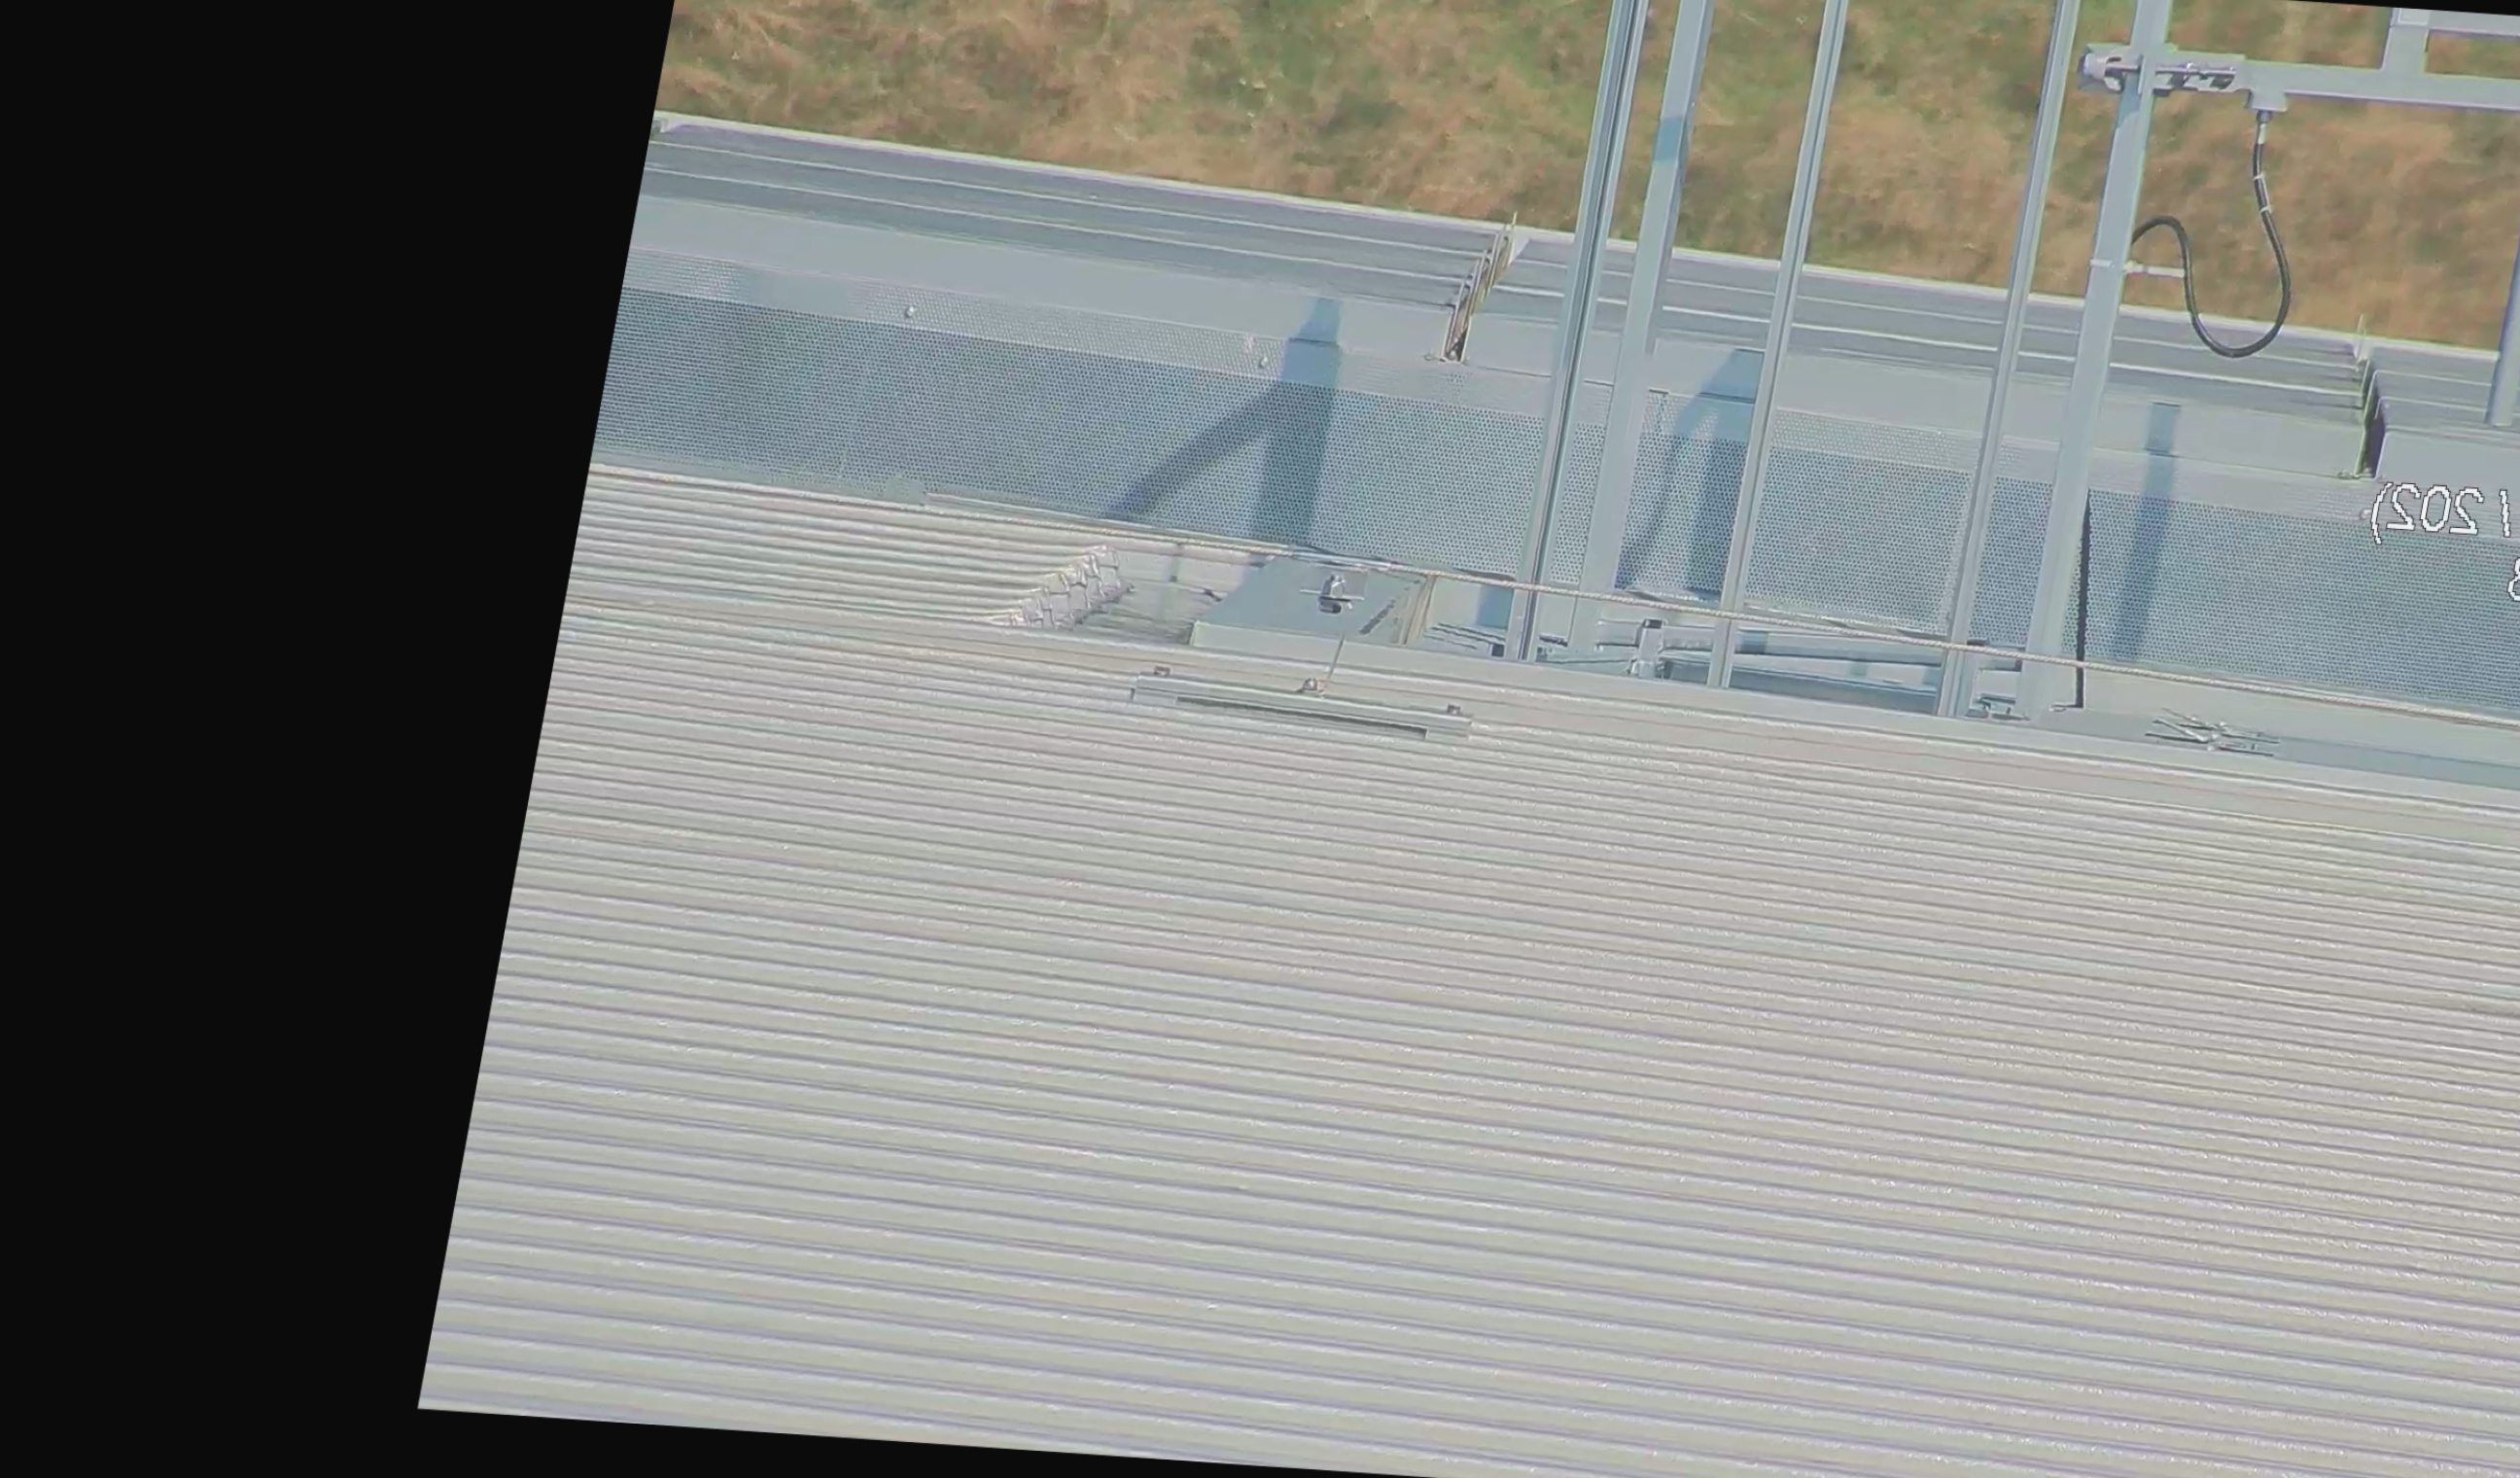Other: (978, 540, 1127, 649)
